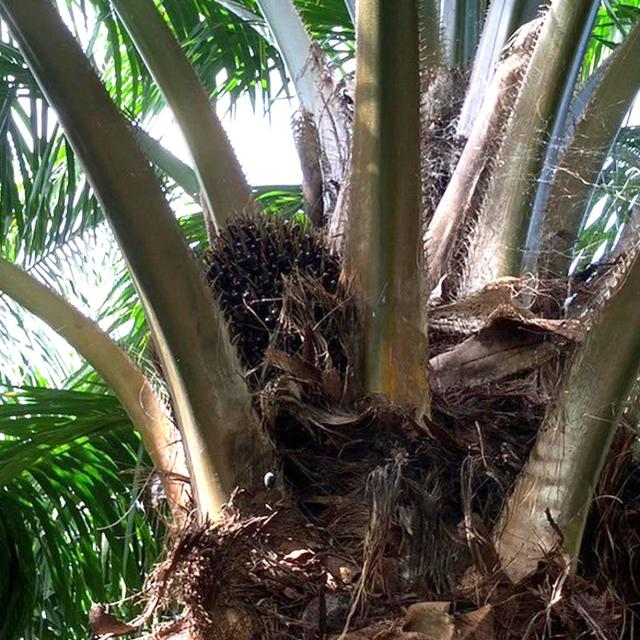unripe: (198, 198, 353, 403)
